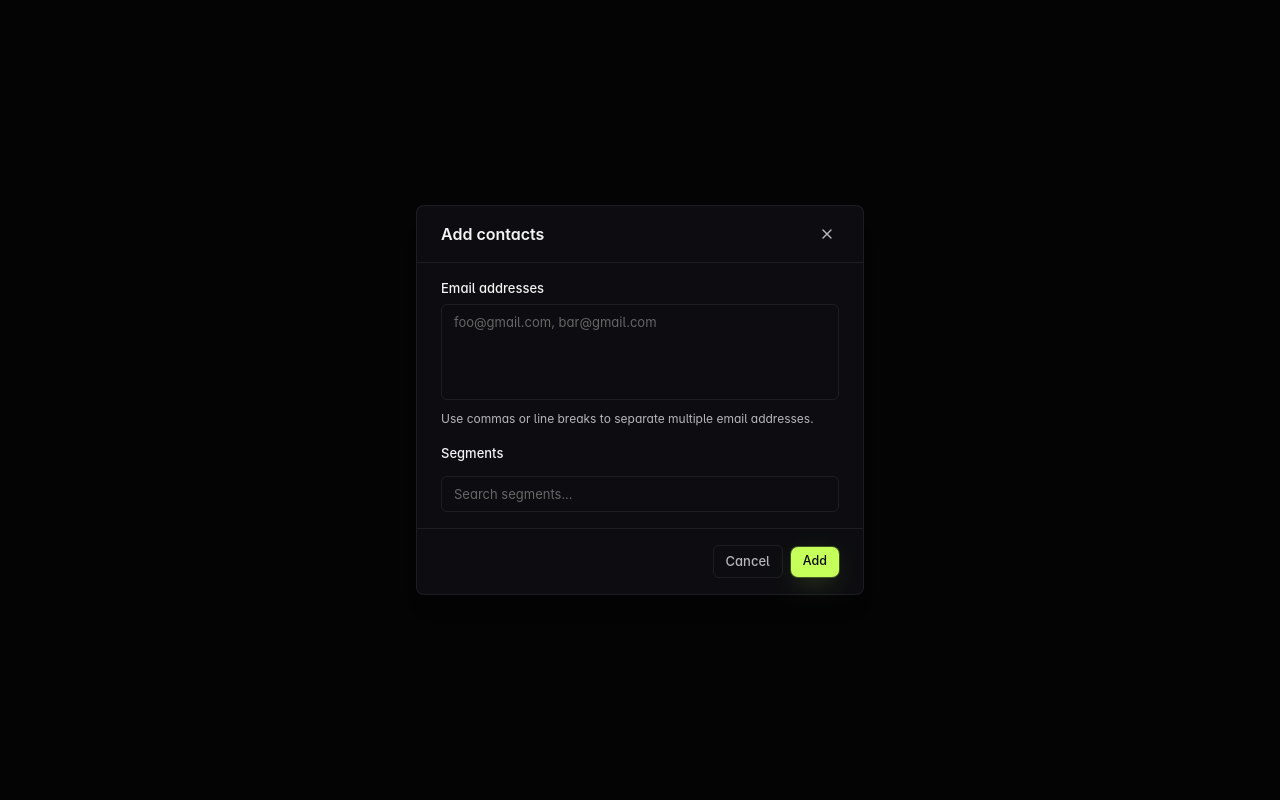
Test case: AddContactModal › normalizes list-envelope segment responses on open
This screenshot has width=1280, height=800.
In the field with placeholder "Search segments...": (640, 494) [441,476,839,512], type "VIP"
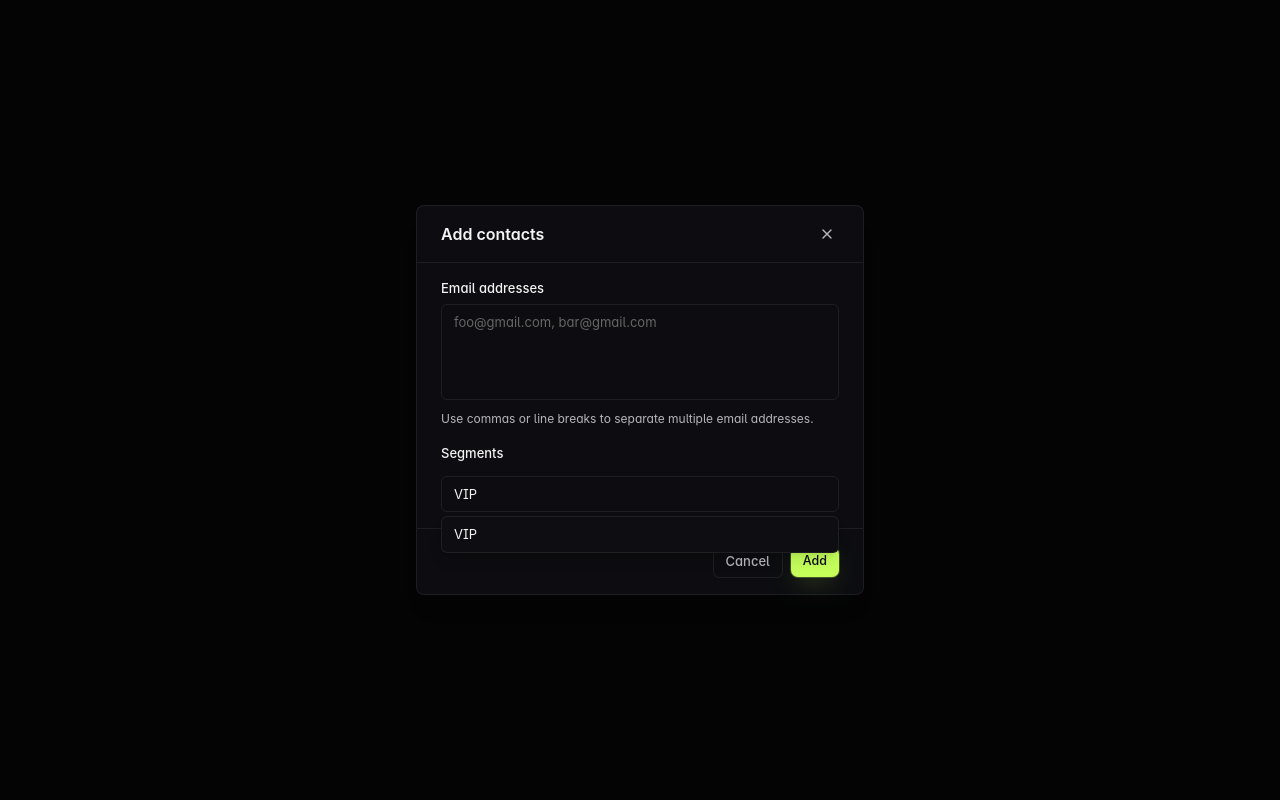
Expected: the button "VIP" is shown, [442,517,838,552]
